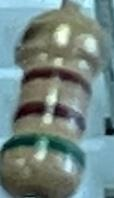Black: (14, 97, 88, 133)
Brown: (22, 66, 94, 95)
Green: (1, 131, 86, 170)
Side-Silver: (20, 21, 106, 57)
